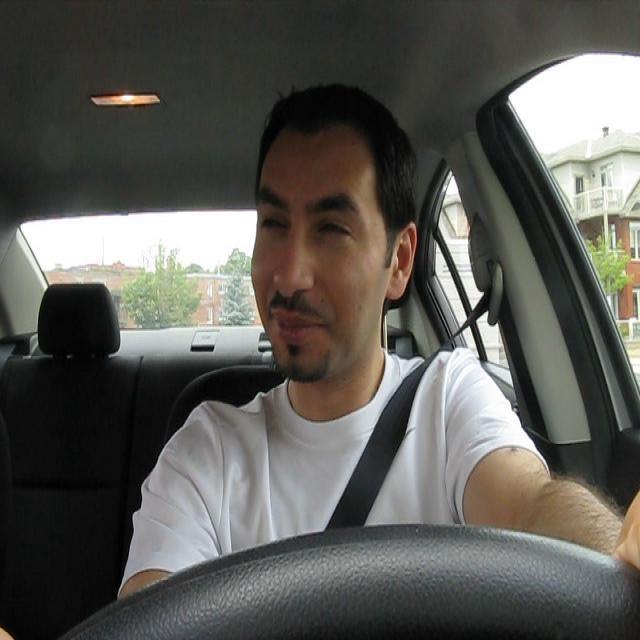Eyeclosed: (315, 207, 350, 249), (259, 208, 287, 244)
